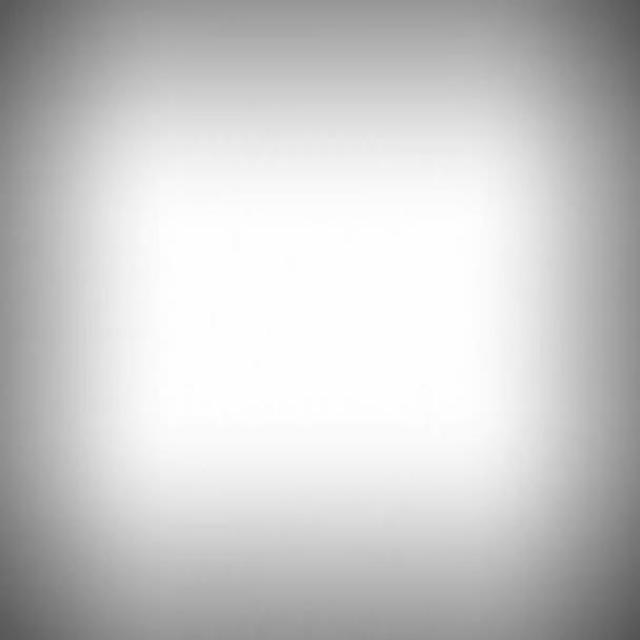Smoke: (12, 0, 640, 639)
